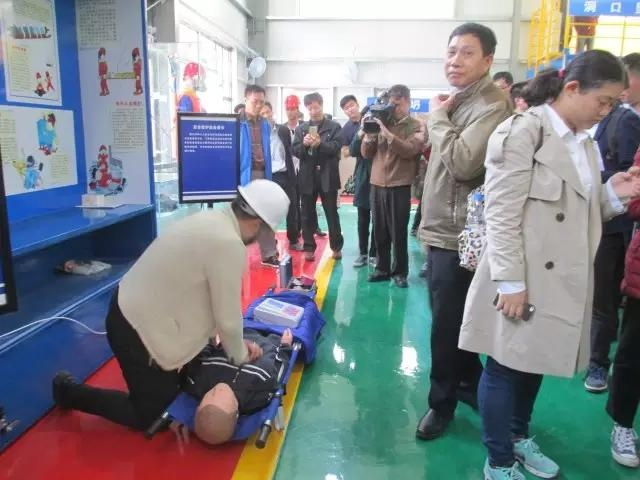none: (550, 46, 630, 132), (438, 21, 496, 93), (384, 81, 414, 124), (240, 82, 265, 121), (336, 91, 362, 121), (301, 92, 326, 123), (491, 68, 514, 93)
red: (283, 93, 301, 123)
white: (226, 174, 292, 247)
